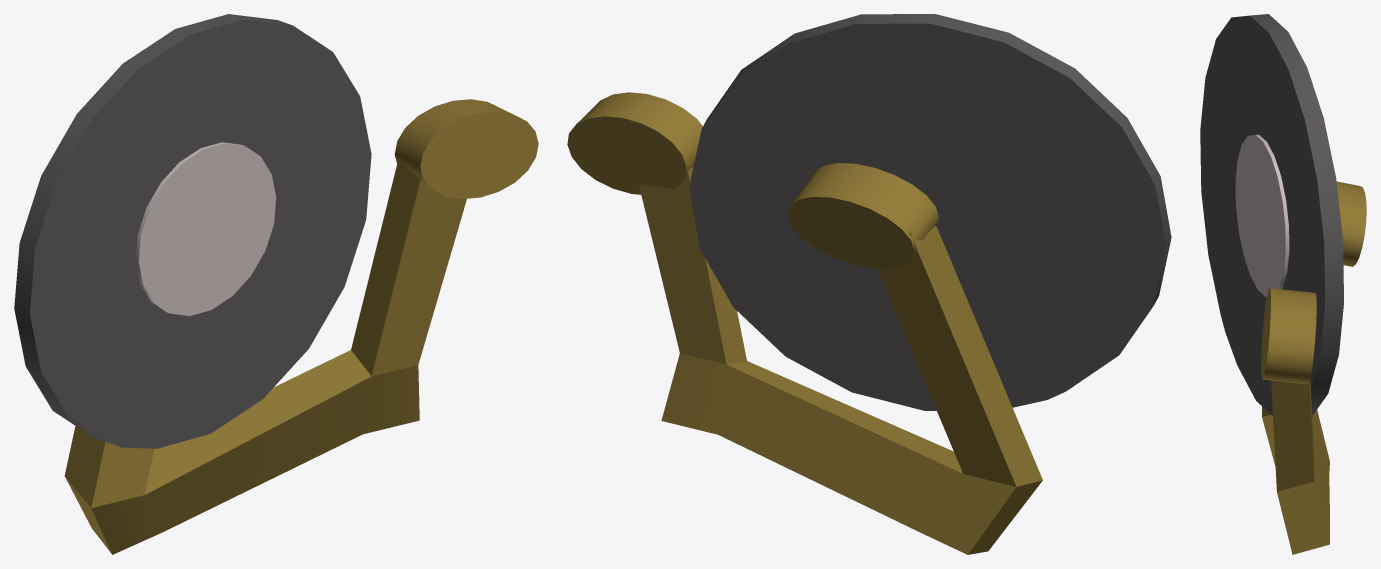
Rendered from music.fbx.
The picture shows the model from 3 angles, left to right: view 1: azimuth 30°, elevation 25°; view 2: azimuth 150°, elevation 25°; view 3: azimuth 270°, elevation 25°; orthographic projection. The views are drawn at different scales.
Visible parts, largest first — view 1: pCylinder3, pCube2; view 2: pCylinder3, pCube2; view 3: pCylinder3, pCube2.
Part boxes in pixels (x1,y1,x2,y2): pCylinder3: (14, 14, 371, 448); pCube2: (64, 99, 538, 554); pCylinder3: (689, 14, 1171, 410); pCube2: (567, 92, 1042, 554); pCylinder3: (1200, 14, 1343, 415); pCube2: (1261, 181, 1366, 554).
Size of the model in its own units: 14.74 by 13.15 by 4.23.
